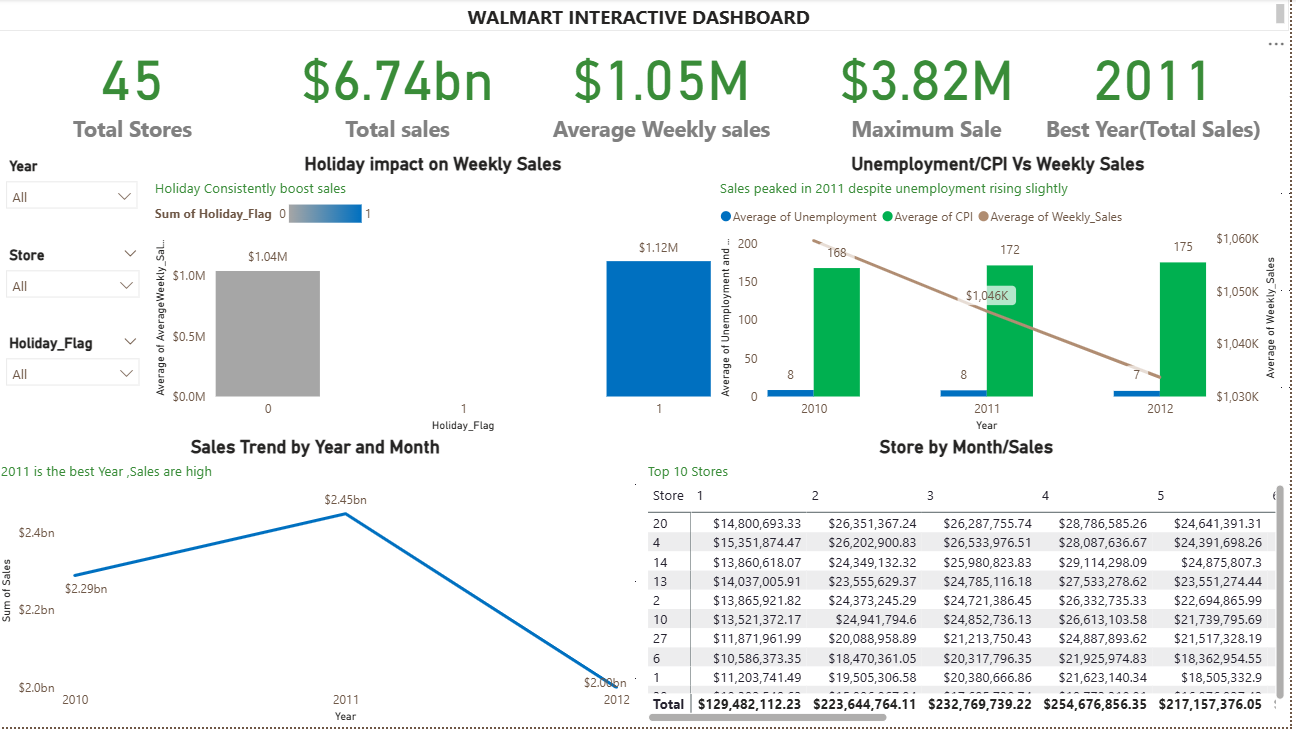

The page's visual inventory and layout, read from the dashboard file:
{"tool":"powerbi","page":{"name":"Page 1","canvas":[1280,720],"ordinal":0},"visuals":[{"type":"card","fields":{"Values":["Count(Walmart_staging.Store)"]},"box":[0,23.2,270,130],"z":0},{"type":"card","fields":{"Values":["Walmart_staging.Total sales"]},"box":[262,23.2,270,130],"z":1000},{"type":"card","fields":{"Values":["Walmart_staging.Average Weekly sales"]},"box":[524,23.2,270,130],"z":2000},{"type":"clusteredColumnChart","title":"Holiday impact on Weekly Sales","fields":{"Category":["Holiday_Flag.Holiday_Flag"],"Y":["Avg(Holiday_Flag.AverageWeekly_Sales)"]},"box":[152,152,560,280],"z":3000},{"type":"lineChart","title":"Sales Trend  by Year and Month","fields":{"Category":["Monthly trend.Monthly","Monthly trend.Year"],"Y":["Sum(Monthly trend.Sales)"]},"box":[0,432,632,288],"z":4000},{"type":"card","fields":{"Values":["Walmart_staging.Maximum Sale"]},"box":[786,23.2,270,130],"z":5000},{"type":"card","fields":{"Values":["Monthly trend.Best Year"]},"box":[1010,23.2,270,130],"z":6000},{"type":"pivotTable","title":"Store by Month/Sales","fields":{"Rows":["Walmart_staging.Store"],"Columns":["Walmart_staging.Month"],"Values":["Walmart_staging.Total sales"]},"box":[640,432,640,288],"z":7000},{"type":"slicer","fields":{"Values":["Monthly trend.Year"]},"box":[0,152,150,90],"z":8000},{"type":"slicer","fields":{"Values":["Walmart_staging.Store"]},"box":[0,240,152,88],"z":9000},{"type":"slicer","fields":{"Values":["Walmart_staging.Holiday_Flag"]},"box":[0,328,152,104],"z":10000},{"type":"lineClusteredColumnComboChart","title":"Unemployment/CPI Vs Weekly Sales","fields":{"Category":["Walmart_staging.Date.Variation.Date Hierarchy.Year","Walmart_staging.Date.Variation.Date Hierarchy.Quarter","Walmart_staging.Date.Variation.Date Hierarchy.Month"],"Y":["Avg(Walmart_staging.Unemployment)","Avg(Walmart_staging.CPI)"],"Y2":["Avg(Walmart_staging.Weekly_Sales)"]},"box":[712,152,560,280],"z":11000},{"type":"textbox","box":[0,0,1280,32],"z":12000}]}

Visuals, with their boxes in screenshot pixels (x1, y1, x2, y2), scaled from the page's 1280x720 canvas onto the 1296x732 screenshot:
card - Count(Walmart_staging.Store): 0, 24, 273, 156
card - Walmart_staging.Total sales: 265, 24, 539, 156
card - Walmart_staging.Average Weekly sales: 531, 24, 804, 156
"Holiday impact on Weekly Sales" clusteredColumnChart: 154, 155, 721, 439
"Sales Trend  by Year and Month" lineChart: 0, 439, 640, 731
card - Walmart_staging.Maximum Sale: 796, 24, 1069, 156
card - Monthly trend.Best Year: 1023, 24, 1295, 156
"Store by Month/Sales" pivotTable: 648, 439, 1295, 731
slicer - Monthly trend.Year: 0, 155, 152, 246
slicer - Walmart_staging.Store: 0, 244, 154, 333
slicer - Walmart_staging.Holiday_Flag: 0, 333, 154, 439
"Unemployment/CPI Vs Weekly Sales" lineClusteredColumnComboChart: 721, 155, 1288, 439
textbox: 0, 0, 1295, 33
